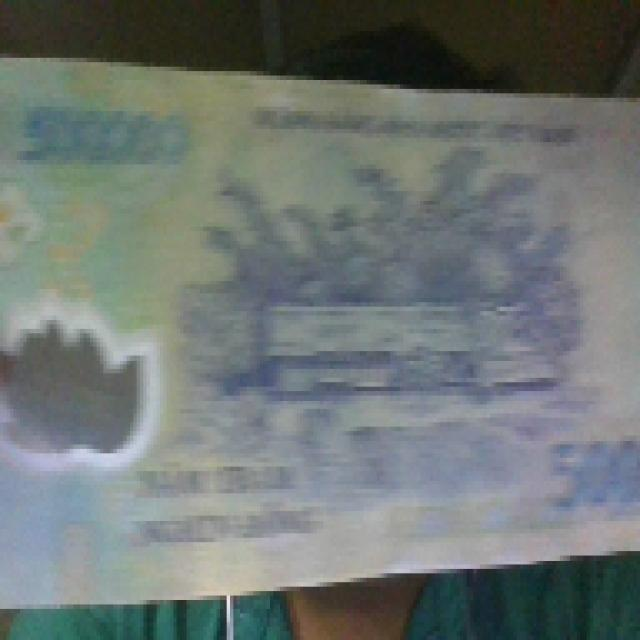500 000 VND: (2, 44, 638, 609)
